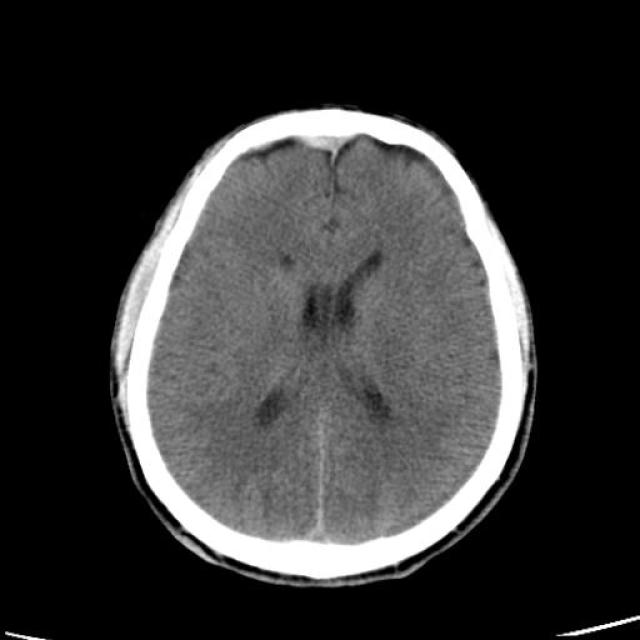Subdural: (262, 111, 372, 199)
